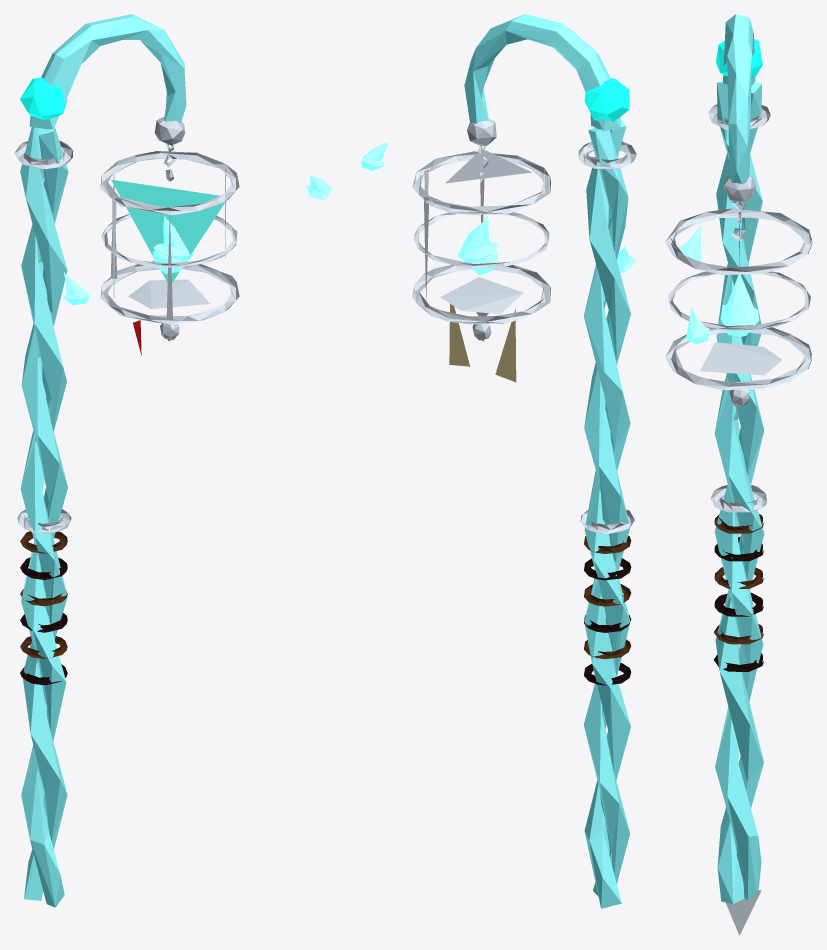
The model's file is lantern_2.glb.
3 views of the same model, side by side, from view 1: azimuth 30°, elevation 25°; view 2: azimuth 150°, elevation 25°; view 3: azimuth 270°, elevation 25° (orthographic). The views are drawn at different scales.
Visible parts, largest first — view 1: Staff__002, Staff__001, Staff__003, Lantern__016, Lantern__023, Lantern__024, Lantern__027, Staff__014, Lantern__025, Staff__011, Flame__029; view 2: Staff__001, Staff__002, Staff__003, Lantern__023, Lantern__024, Lantern__027, Staff__014, Lantern__026, Lantern__025, Flame__029, Staff__011, Tags__031 (+3 smaller); view 3: Staff__002, Staff__001, Staff__003, Lantern__023, Lantern__024, Lantern__027, Lantern__025, Flame__029, Staff__012, Staff__013, Staff__004, Staff__014 (+9 smaller).
Boxes of the visible parts, x1,y1,x2,y2 form: Staff__002: [20, 127, 67, 907]; Staff__001: [20, 127, 68, 900]; Staff__003: [29, 14, 186, 129]; Lantern__016: [111, 179, 225, 282]; Lantern__023: [100, 151, 239, 215]; Lantern__024: [100, 261, 239, 324]; Lantern__027: [128, 279, 210, 309]; Staff__014: [20, 77, 66, 120]; Lantern__025: [101, 214, 237, 267]; Staff__011: [14, 140, 73, 169]; Flame__029: [153, 215, 194, 261]; Staff__001: [584, 118, 630, 908]; Staff__002: [583, 127, 630, 896]; Staff__003: [464, 14, 620, 131]; Lantern__023: [412, 151, 551, 214]; Lantern__024: [412, 265, 550, 324]; Lantern__027: [440, 277, 523, 313]; Staff__014: [584, 78, 629, 121]; Lantern__026: [445, 148, 531, 183]; Lantern__025: [414, 212, 549, 268]; Flame__029: [457, 215, 498, 262]; Staff__011: [578, 141, 636, 169]; Tags__031: [495, 309, 516, 382]; Staff__002: [714, 81, 764, 903]; Staff__001: [714, 81, 764, 899]; Staff__003: [723, 14, 755, 184]; Lantern__023: [665, 208, 812, 274]; Lantern__024: [665, 324, 811, 389]; Lantern__027: [700, 342, 781, 375]; Lantern__025: [668, 271, 810, 330]; Flame__029: [721, 274, 759, 325]; Staff__012: [710, 485, 766, 512]; Staff__013: [725, 890, 761, 935]; Staff__004: [724, 174, 756, 201]; Staff__014: [716, 39, 762, 78].
Bounding box in the file's own units: 0.4182 × 1.23 × 0.1743.
